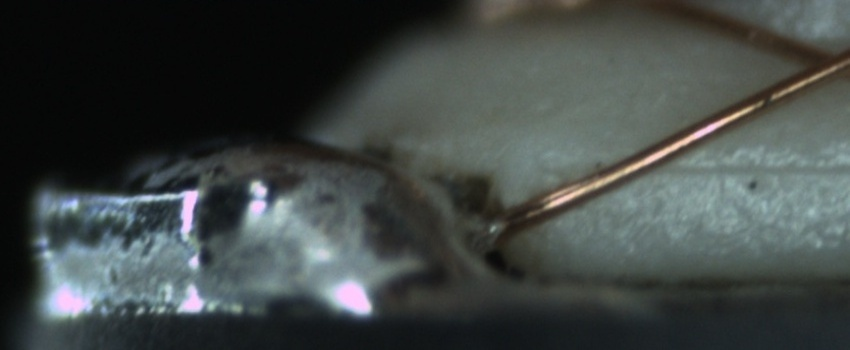CL: (773, 29, 849, 92)
DL: (632, 132, 850, 200)
